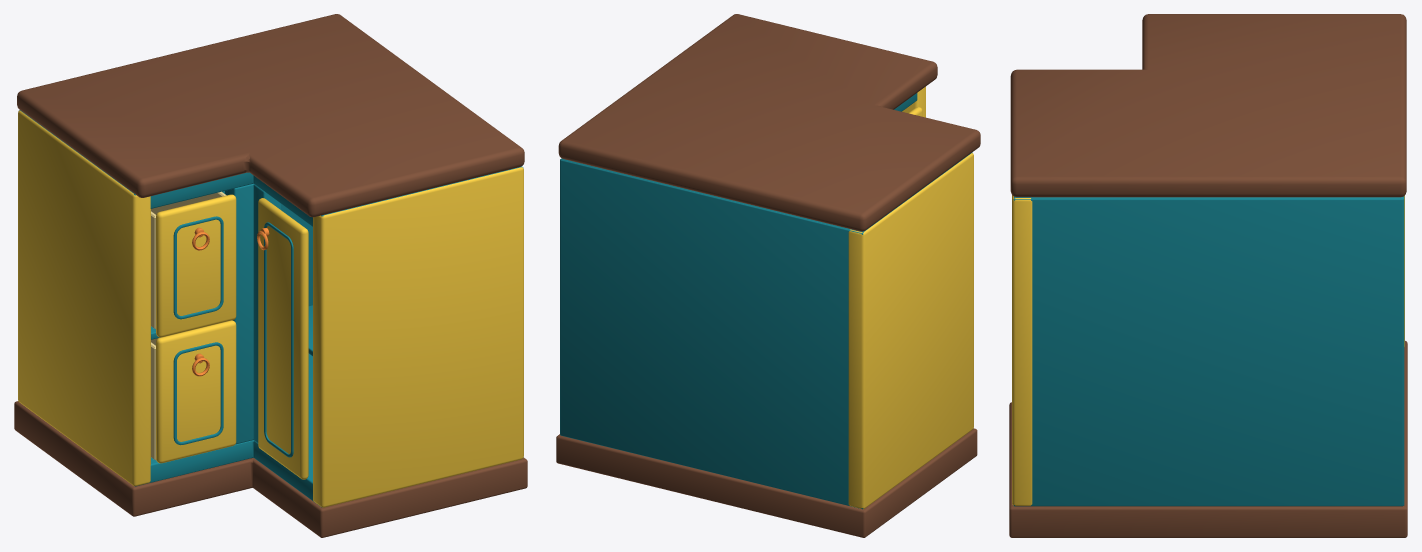
File: armario_cozinha_canto_colonial.glb
3 views of the same model, side by side, from view 1: azimuth 30°, elevation 25°; view 2: azimuth 150°, elevation 25°; view 3: azimuth 270°, elevation 25° (orthographic). The views are drawn at different scales.
Parts seen in each view (by area): view 1: armario_cozinha_canto_colonial, porta_1, gaveta_1, gaveta_2; view 2: armario_cozinha_canto_colonial; view 3: armario_cozinha_canto_colonial.
Boxes of the visible parts, bbox=[...] form: armario_cozinha_canto_colonial: bbox=[14, 14, 527, 537]; porta_1: bbox=[257, 198, 308, 479]; gaveta_1: bbox=[151, 191, 236, 337]; gaveta_2: bbox=[151, 320, 236, 463]; armario_cozinha_canto_colonial: bbox=[556, 14, 980, 537]; armario_cozinha_canto_colonial: bbox=[1009, 14, 1407, 537].
Size of the model in its own units: 0.904 by 0.9 by 0.904.
Materials: 1 (1 with a texture image).
